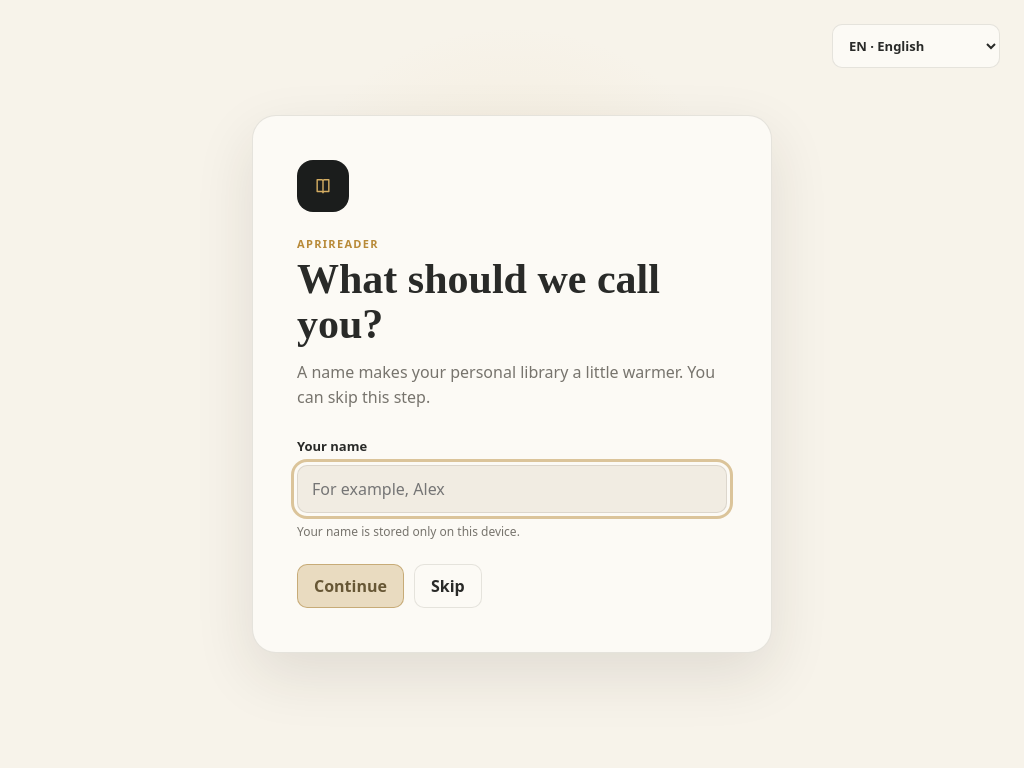
it: App › creates an optional local profile on first launch
The width and height of the screenshot is (1024, 768).
Check: the heading "What should we call you?" is shown, box [297,256,660,347]
Check: the button "Continue" is disabled, box [297,564,404,608]
Type "  Bahadur   Ali  " into the field labelled "Your name".
click(512, 489); type("  Bahadur   Ali  ")  # box [297,465,727,513]
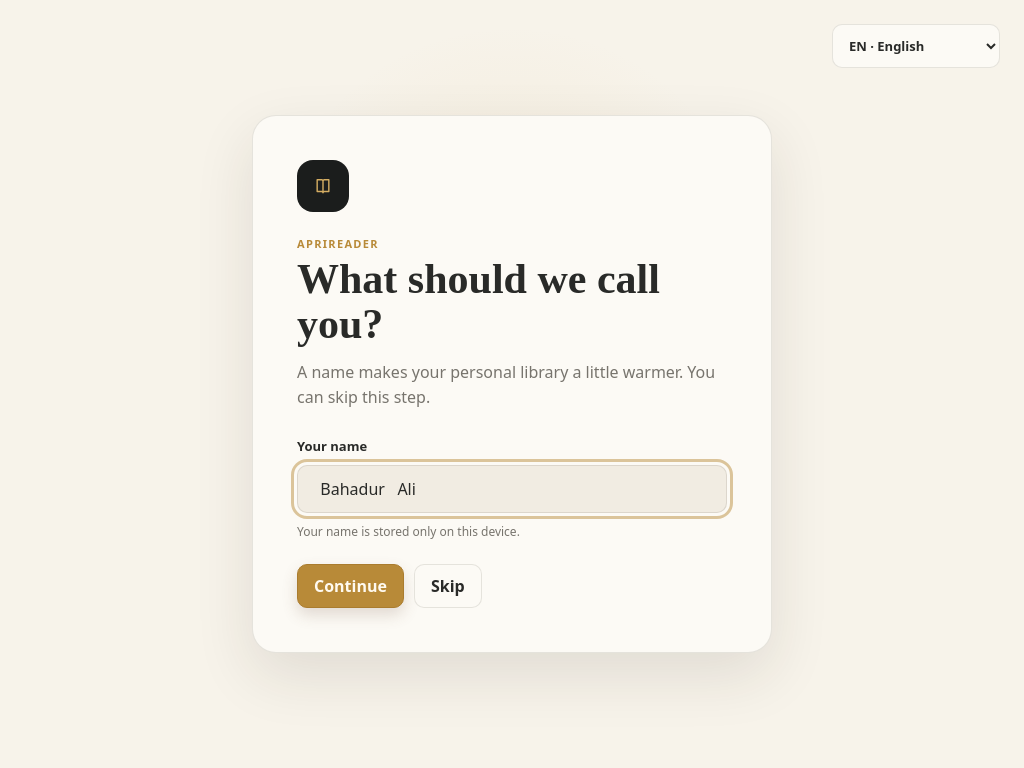
Click the button "Continue".
click(350, 586)  # box [297,564,404,608]
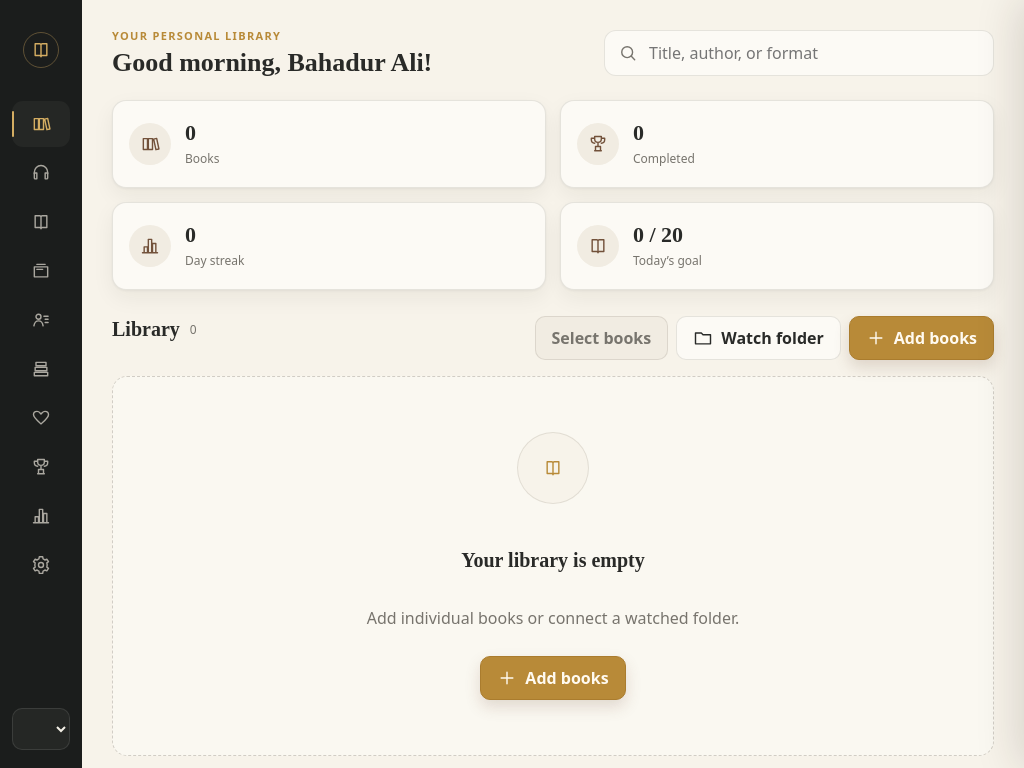
Check: the heading "Good morning, Bahadur Ali!" is shown, box [112,48,432,78]
